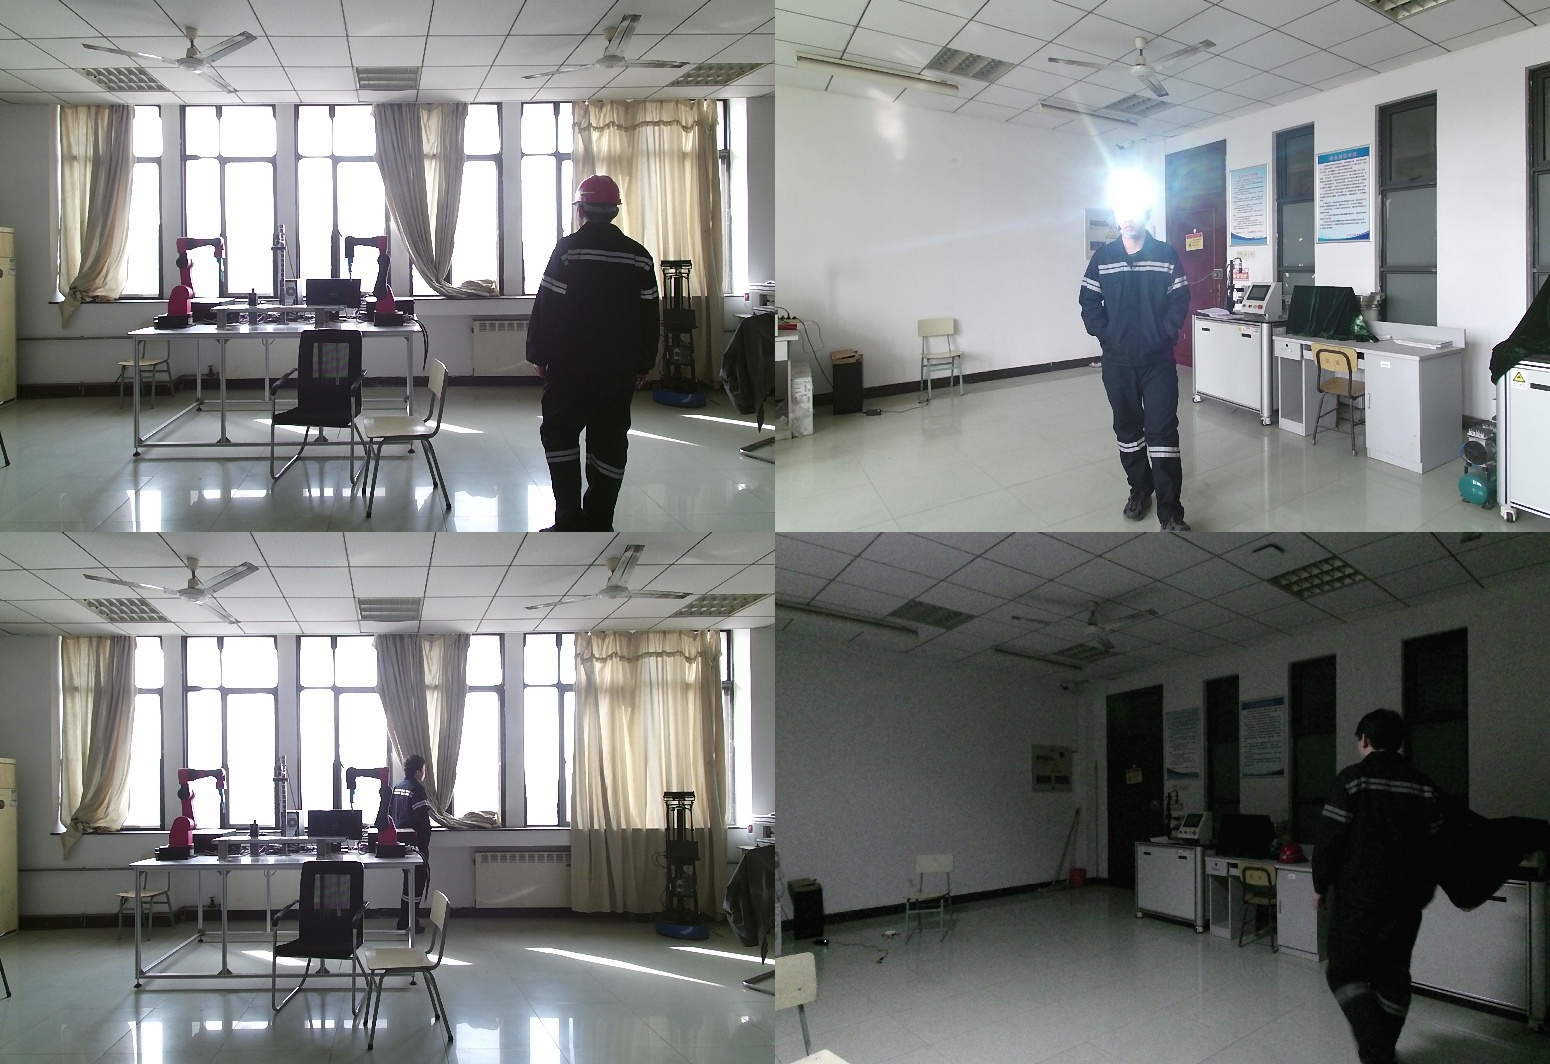person: (532, 174, 677, 532), (1290, 720, 1441, 1064), (1078, 182, 1207, 532), (394, 754, 440, 945)
